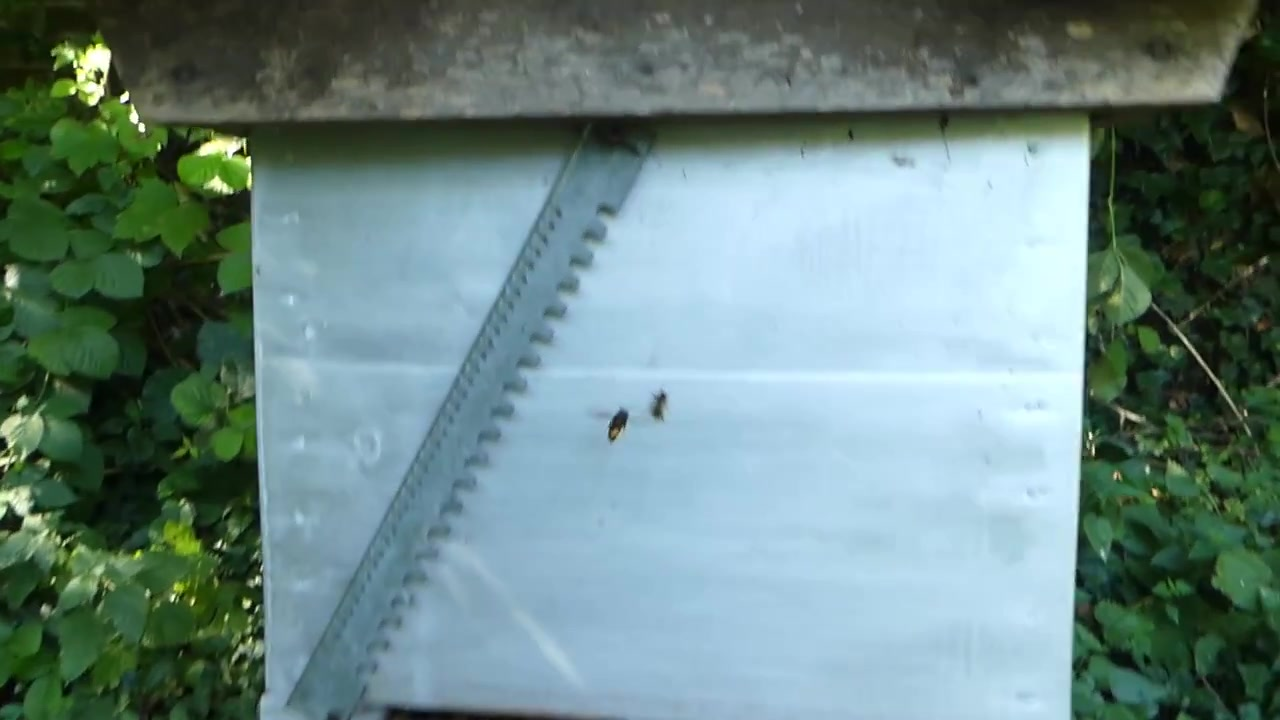bee: (646, 391, 669, 423)
hornet: (604, 408, 630, 446)
